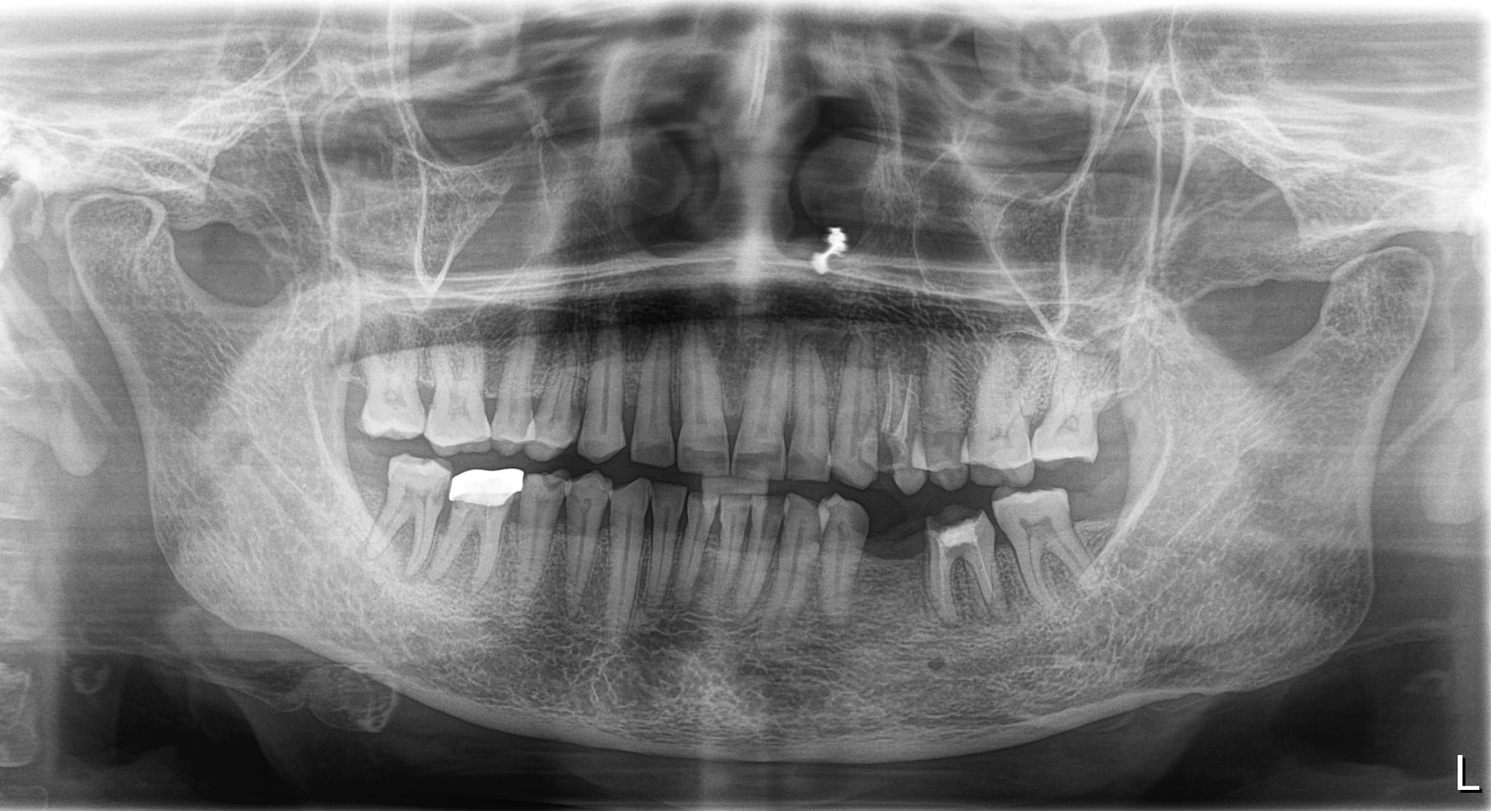Dental Caries: (535, 467, 582, 505)
Endodontically Treated Tooth: (854, 330, 933, 490), (932, 516, 1004, 627)
Missing Tooth: (857, 502, 928, 630)
